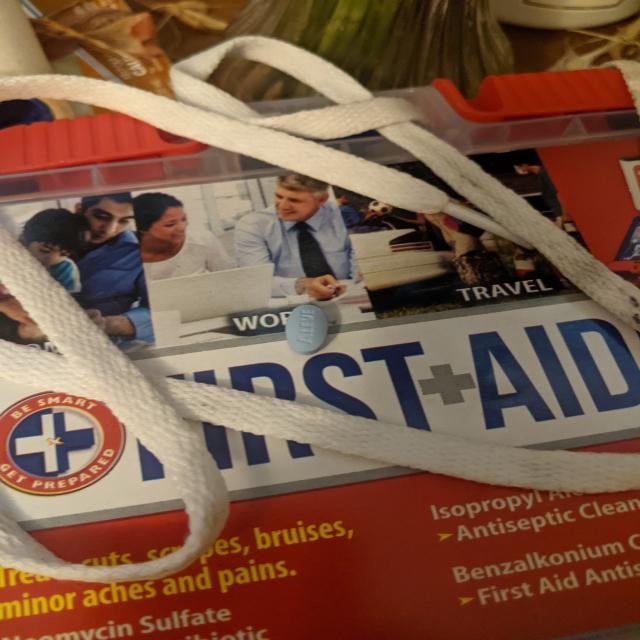non-organic waste: (284, 304, 329, 356)
